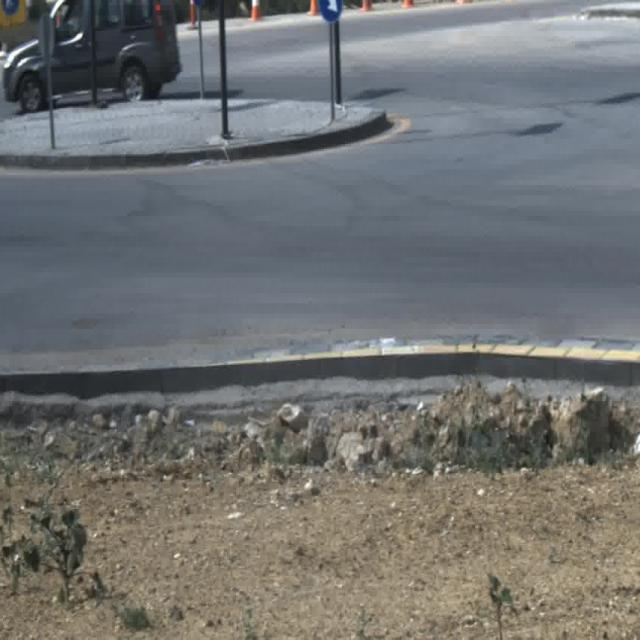Car: (2, 0, 180, 111)
